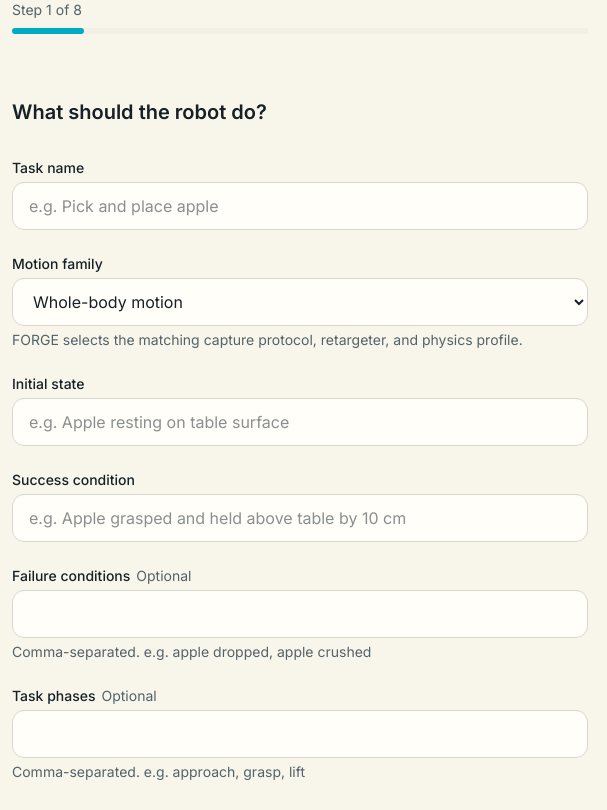
Scenario: NewOrderStepper › advances to step 2 after filling required step 1 fields
Type "Pick apple" into the field labelled "Task name" at [300, 206], box [12,182,588,230]
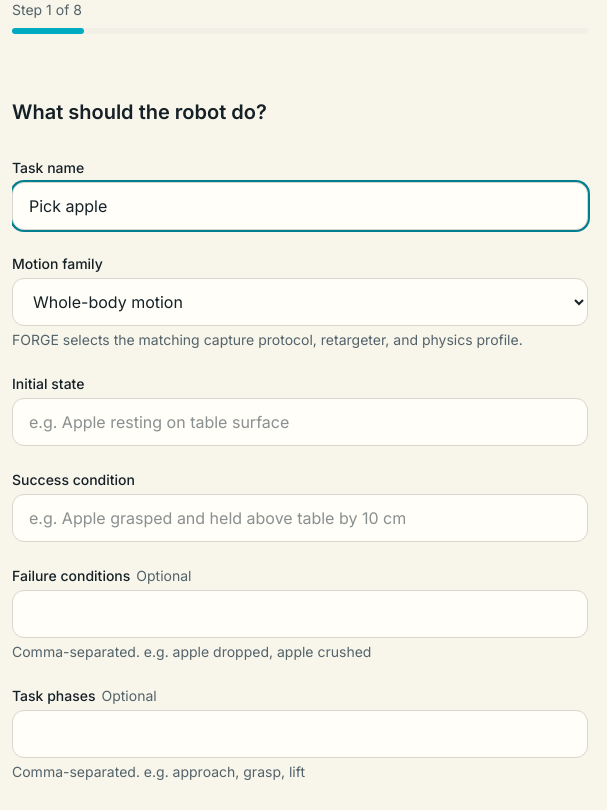
Type "Apple on table" into the field labelled "Initial state" at [300, 422], box [12,398,588,446]
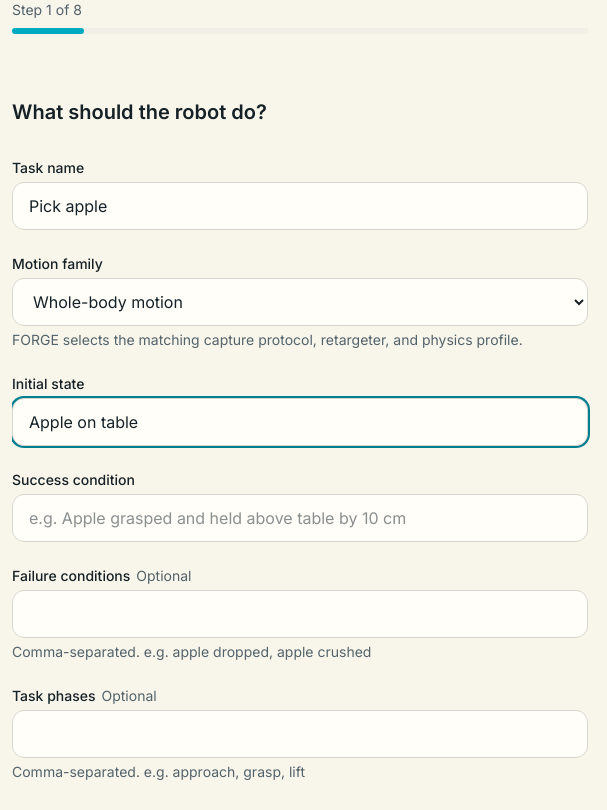
Type "Apple in bin" into the field labelled "Success condition" at [300, 518], box [12,494,588,542]
(page scrolled)
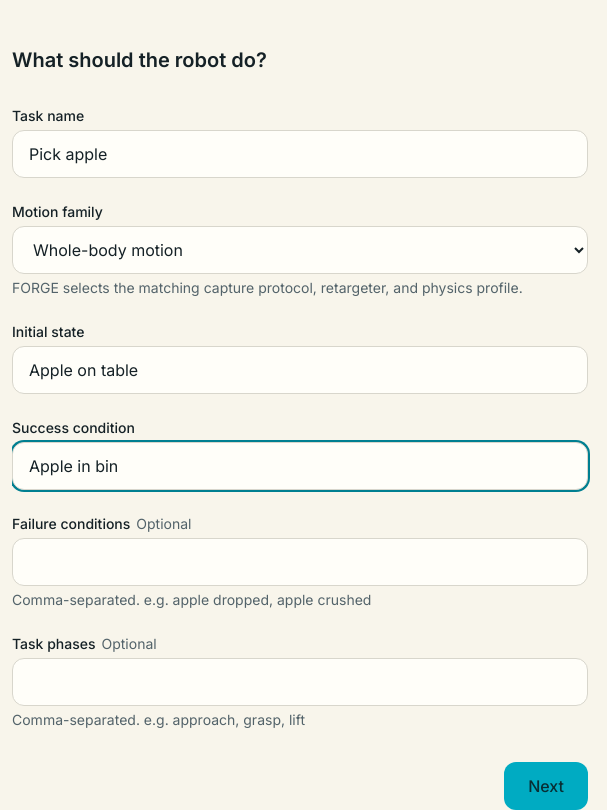
Click the button "Next" at [546, 786], box [504,762,588,809]
(page scrolled)
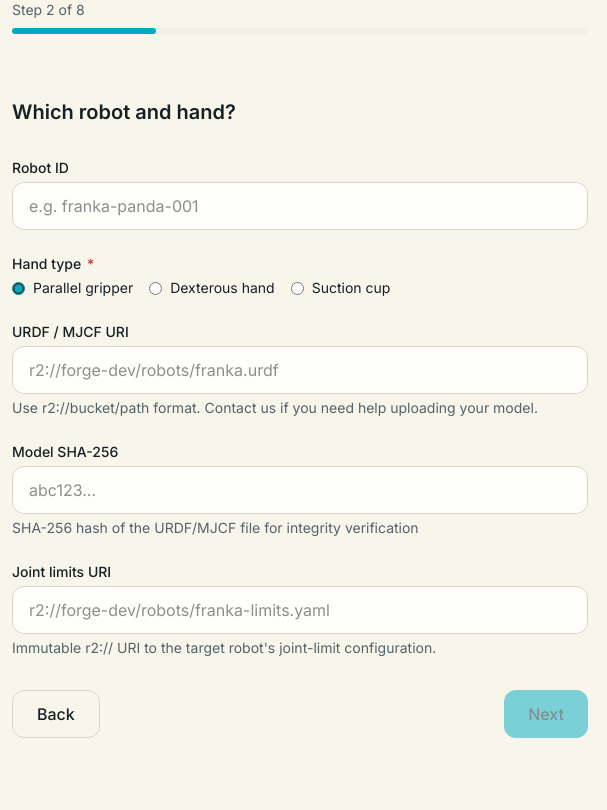
Check: the heading "Which robot and hand?" is shown, box [12,100,236,124]
Check: the text "Step 2 of 8" is shown, box [12,0,85,20]
